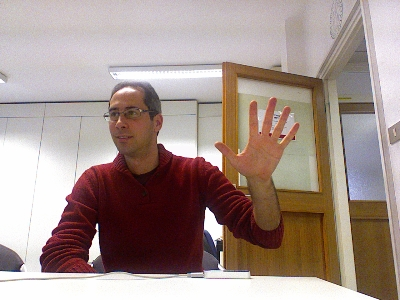布: (212, 95, 300, 181)
